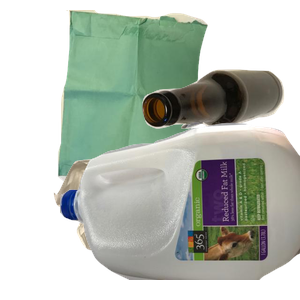glass: (140, 67, 300, 188)
paper: (55, 10, 255, 190)
plastic: (60, 120, 300, 300)
trash: (51, 155, 261, 300)
